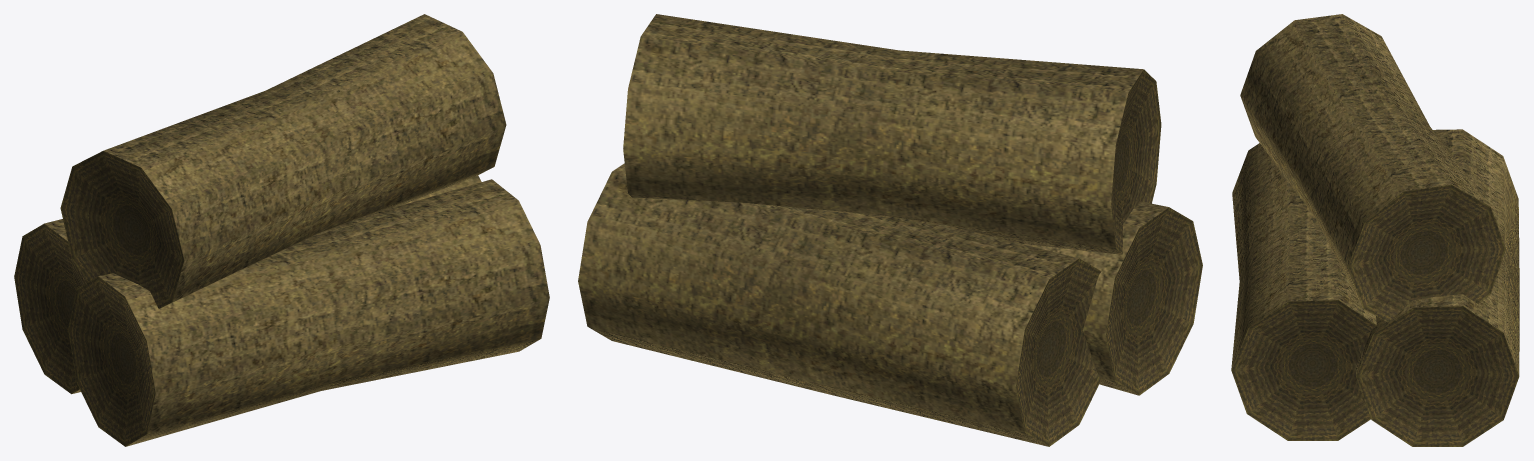
The model's file is thing_hake_roll03.fbx.
3 views of the same model, side by side, from view 1: azimuth 30°, elevation 25°; view 2: azimuth 150°, elevation 25°; view 3: azimuth 270°, elevation 25° (orthographic). The views are drawn at different scales.
Parts seen in each view (by area): view 1: thing_hake_roll03; view 2: thing_hake_roll03; view 3: thing_hake_roll03.
Part boxes in pixels (x1,y1,x2,y2): thing_hake_roll03: (14,14,549,446); thing_hake_roll03: (578,14,1202,446); thing_hake_roll03: (1231,14,1519,446).
Size of the model in its own units: 3.64 by 2.28 by 2.34.
